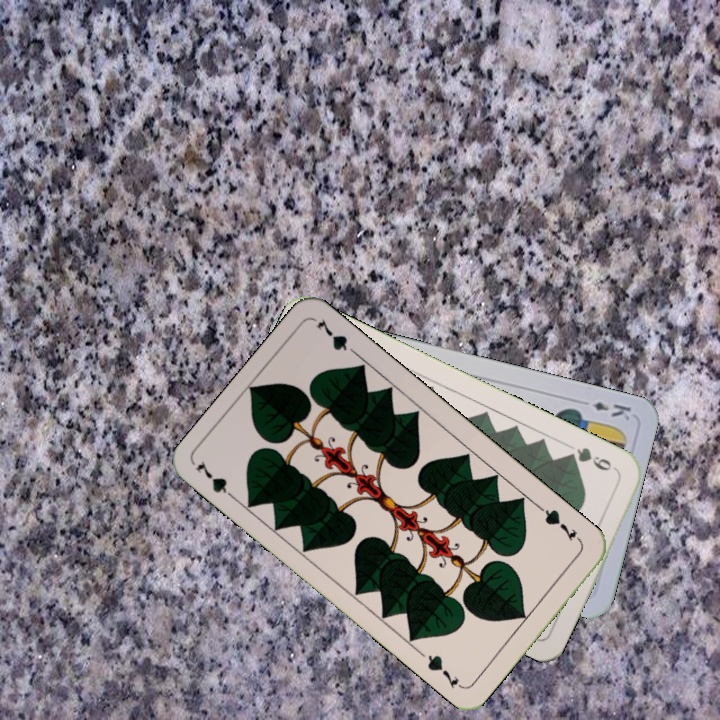EK: (589, 398, 634, 423)
G7: (191, 456, 241, 505), (535, 503, 584, 546)
G9: (563, 443, 621, 475)
